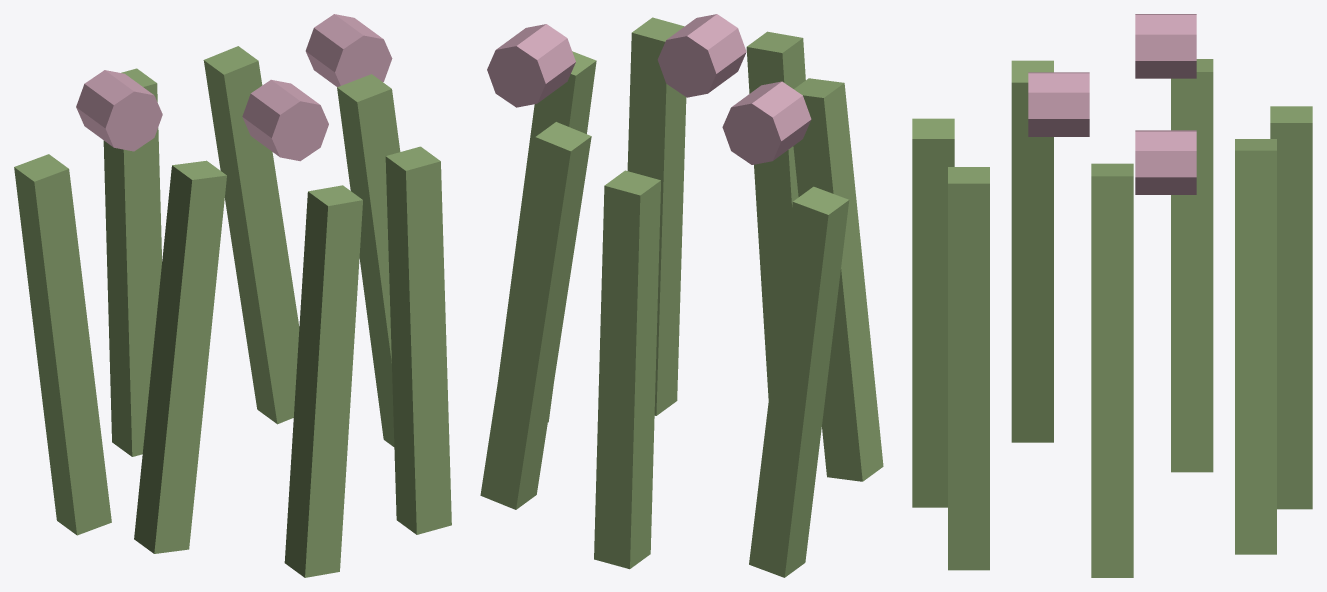
The model's file is grass_clump.glb.
3 renders of one model, left to right at view 1: azimuth 30°, elevation 25°; view 2: azimuth 150°, elevation 25°; view 3: azimuth 270°, elevation 25°, orthographic. The views are drawn at different scales.
Visible parts, largest first — view 1: blade3, blade2, blade1, blade4, blade6, blade5, blade0, flower0, flower1, flower2; view 2: blade5, blade4, blade6, blade3, blade1, blade2, flower0, flower1, flower2, blade0; view 3: blade0, blade6, blade1, blade4, blade3, blade5, blade2, flower0, flower1, flower2.
Part boxes in pixels (x1,y1,x2,y2): blade3: [134, 160, 226, 553]; blade2: [284, 185, 362, 577]; blade1: [385, 146, 451, 534]; blade4: [14, 154, 111, 535]; blade6: [203, 46, 299, 424]; blade5: [103, 68, 162, 456]; blade0: [337, 74, 400, 446]; flower0: [76, 70, 162, 151]; flower1: [242, 79, 328, 161]; flower2: [305, 14, 392, 87]; blade5: [594, 170, 660, 569]; blade4: [749, 186, 849, 577]; blade6: [480, 122, 591, 509]; blade3: [793, 78, 883, 481]; blade1: [627, 17, 686, 415]; blade2: [746, 31, 805, 399]; flower0: [722, 81, 811, 164]; flower1: [657, 14, 746, 97]; flower2: [487, 24, 575, 107]; blade0: [498, 51, 596, 422]; blade0: [1091, 163, 1133, 577]; blade6: [1235, 139, 1276, 554]; blade1: [948, 167, 989, 570]; blade4: [1171, 59, 1213, 472]; blade3: [1011, 60, 1053, 442]; blade5: [1270, 106, 1312, 509]; blade2: [912, 118, 954, 507]; flower0: [1135, 14, 1196, 78]; flower1: [1028, 72, 1089, 136]; flower2: [1135, 130, 1196, 194].
Bounding box in the file's own units: 0.5741 × 0.6698 × 0.523.
